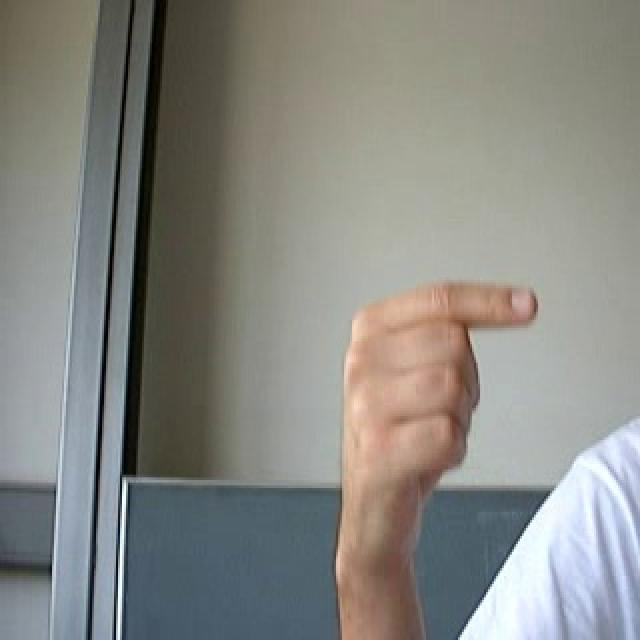G: (329, 264, 554, 578)
